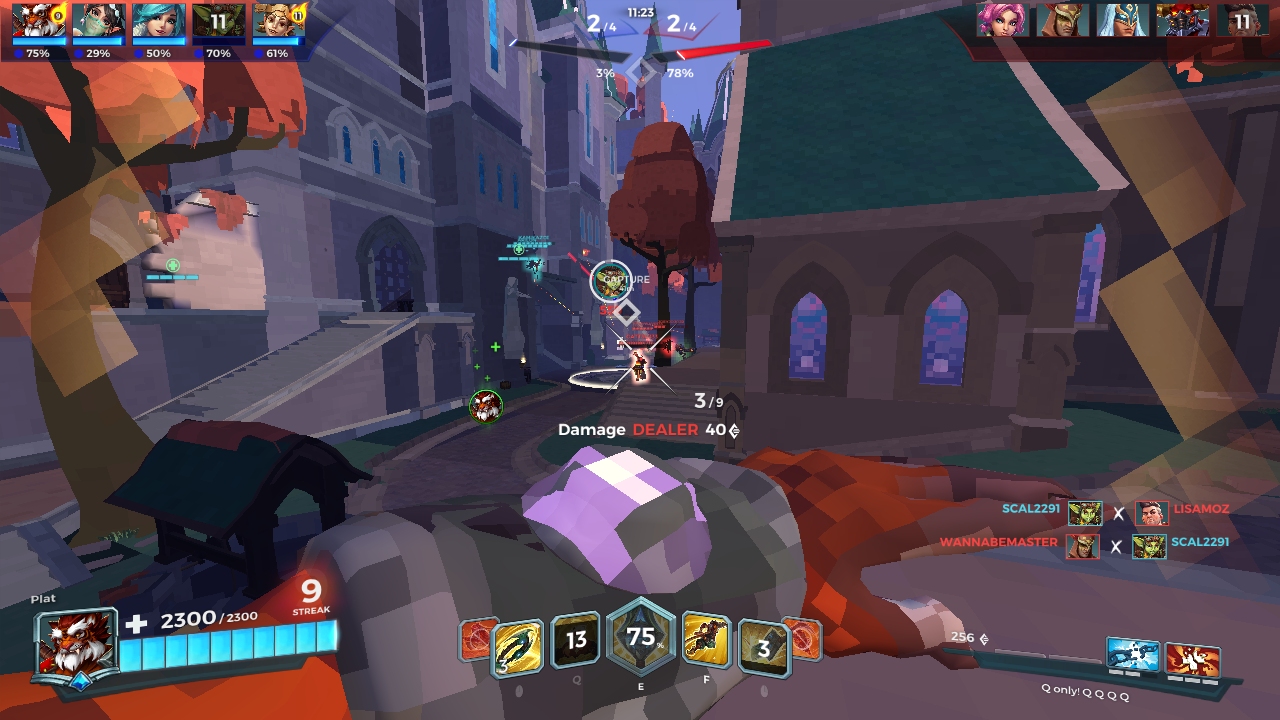model: (631, 348, 649, 387), (665, 337, 675, 354)
